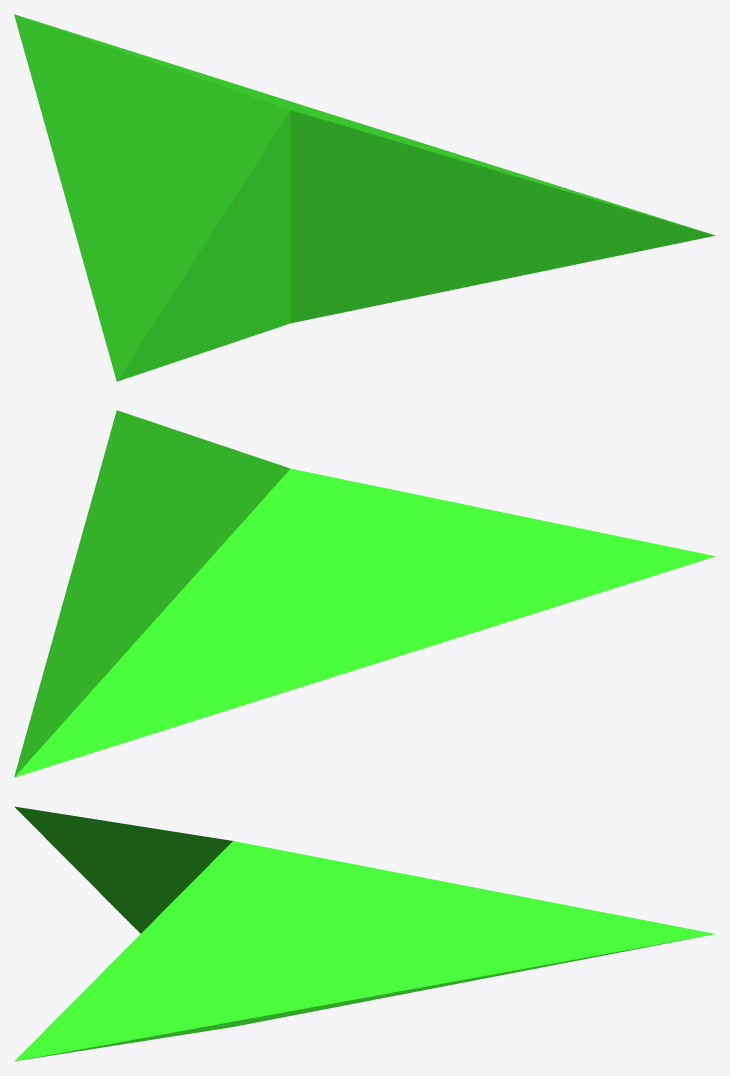
File: arrow-sketchup-yz-y.fbx
3 views of the same model, one above another, from view 1: azimuth 30°, elevation 25°; view 2: azimuth 150°, elevation 25°; view 3: azimuth 270°, elevation 25° (orthographic). The views are drawn at different scales.
Parts seen in each view (by area): view 1: Mesh1_Model; view 2: Mesh1_Model; view 3: Mesh1_Model.
Part boxes in pixels (bbox=[...]): Mesh1_Model: bbox=[14, 14, 715, 381]; Mesh1_Model: bbox=[14, 410, 715, 777]; Mesh1_Model: bbox=[14, 806, 714, 1061].
Bounding box in the file's own units: 0.0294 × 0.01 × 0.0342.
